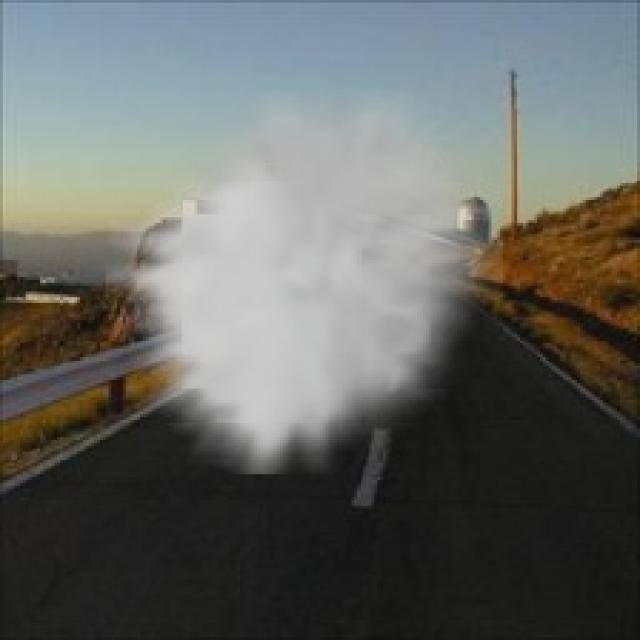smoke: (106, 92, 503, 474)
